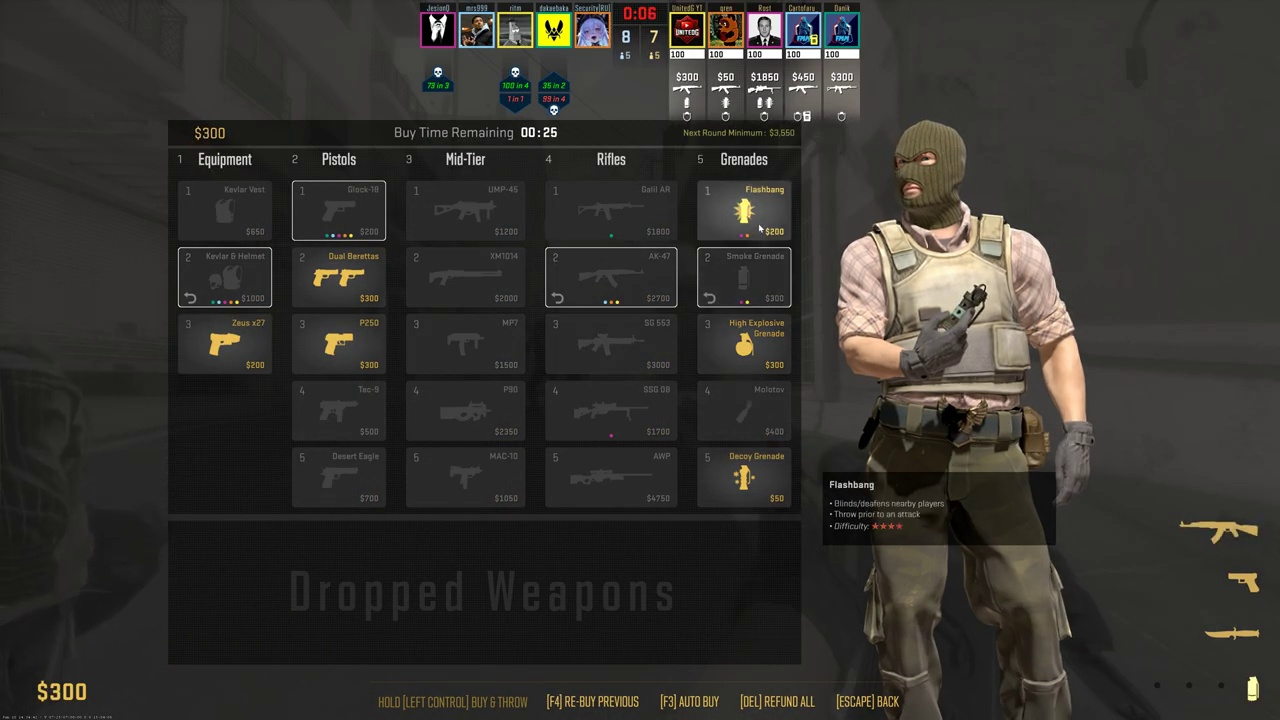Terrorist: (851, 121, 1077, 720)
